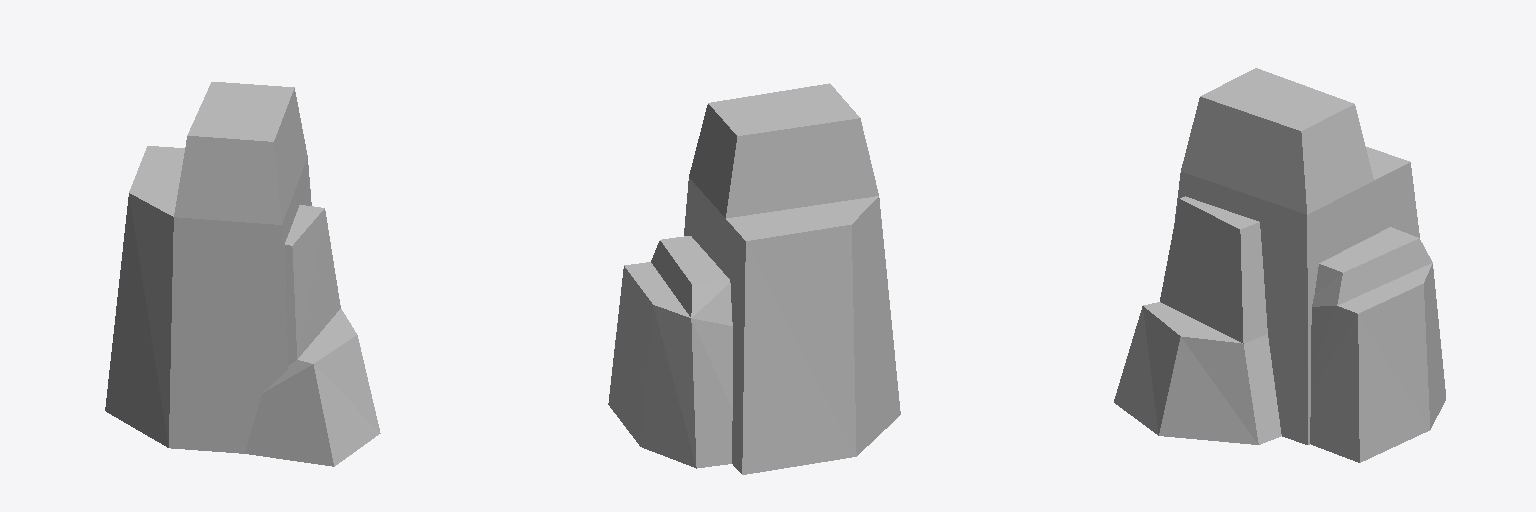
The model's file is rock1.obj.
3 renders of one model, left to right at view 1: azimuth 30°, elevation 25°; view 2: azimuth 150°, elevation 25°; view 3: azimuth 270°, elevation 25°, orthographic.
Size of the model in its own units: 0.449 by 0.5328 by 0.5403.